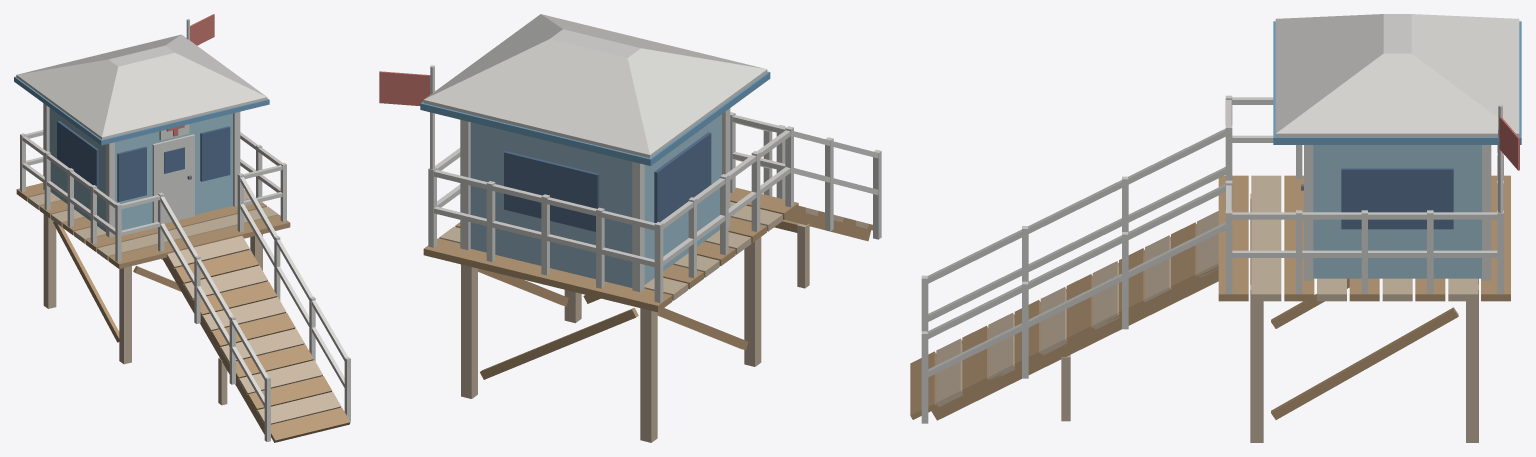
The model's file is lifeguard_tower.glb.
3 views of the same model, side by side, from view 1: azimuth 30°, elevation 25°; view 2: azimuth 150°, elevation 25°; view 3: azimuth 270°, elevation 25° (orthographic). The views are drawn at different scales.
Visible parts, largest first — view 1: lifeguard_tower; view 2: lifeguard_tower; view 3: lifeguard_tower.
Boxes of the visible parts, x1=… form: lifeguard_tower: x1=14, y1=14, x2=350, y2=442; lifeguard_tower: x1=379, y1=14, x2=881, y2=442; lifeguard_tower: x1=910, y1=14, x2=1521, y2=442.
Bounding box in the file's own units: 3.52 × 4.25 × 6.53.
